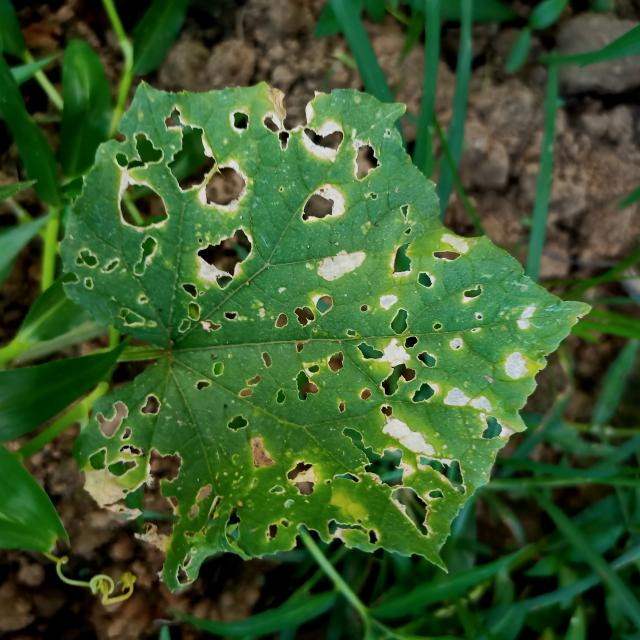disease_cucumber: (77, 95, 537, 561)
